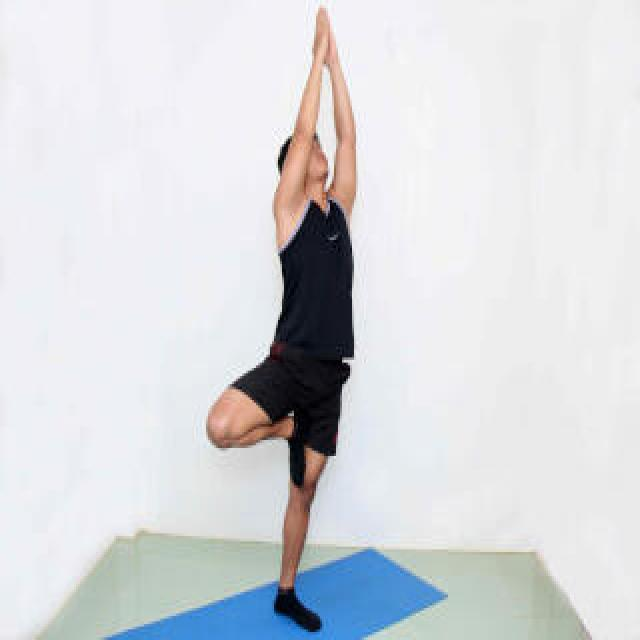yoga-pose tree: (204, 4, 356, 633)
